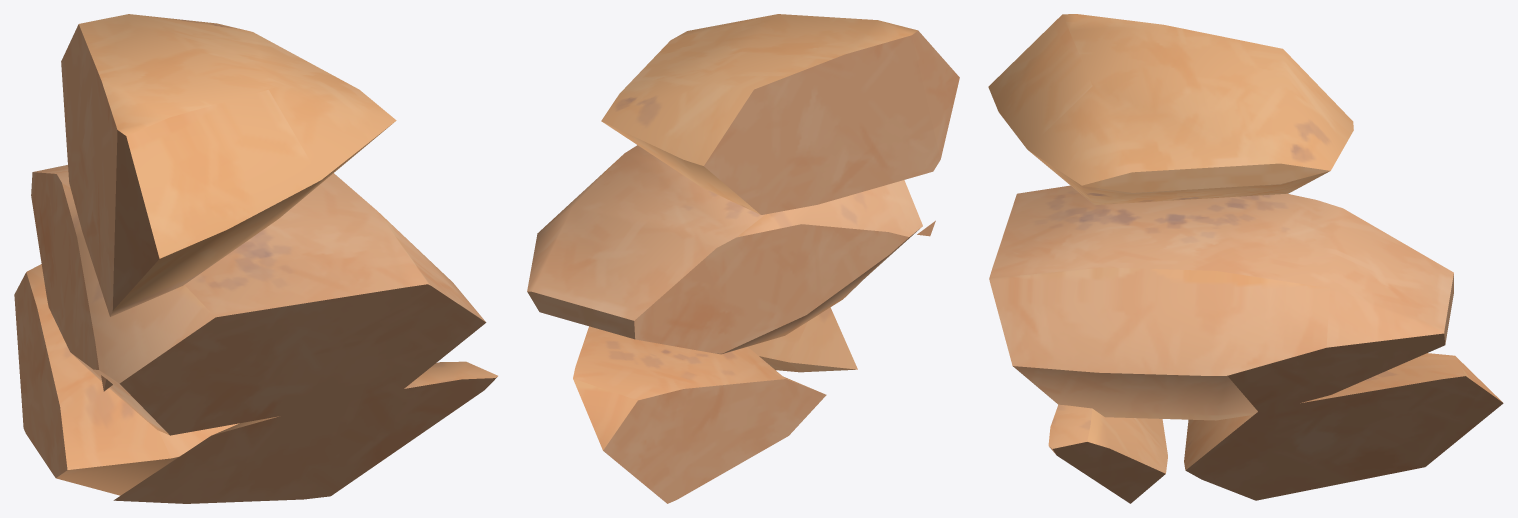
Rendered from sacks_s05.fbx.
The picture shows the model from 3 angles, left to right: view 1: azimuth 30°, elevation 25°; view 2: azimuth 150°, elevation 25°; view 3: azimuth 270°, elevation 25°; orthographic projection. The views are drawn at different scales.
Visible parts, largest first — view 1: sacks_s05; view 2: sacks_s05; view 3: sacks_s05.
Part boxes in pixels (x1,y1,x2,y2): sacks_s05: (14,14,497,503); sacks_s05: (527,14,959,503); sacks_s05: (988,14,1503,503).
Bounding box in the file's own units: 2.04 × 2.45 × 2.73.
